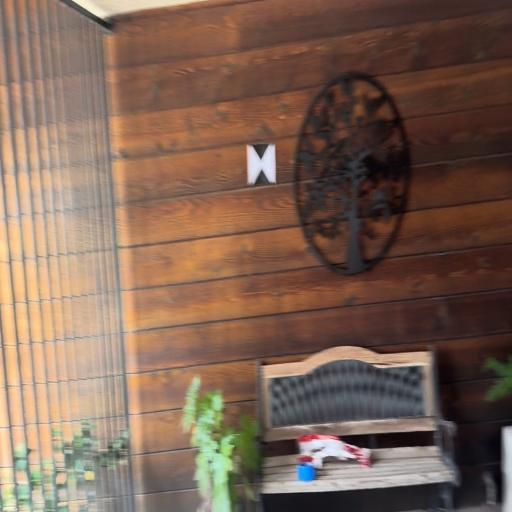target: (248, 146, 276, 184)
